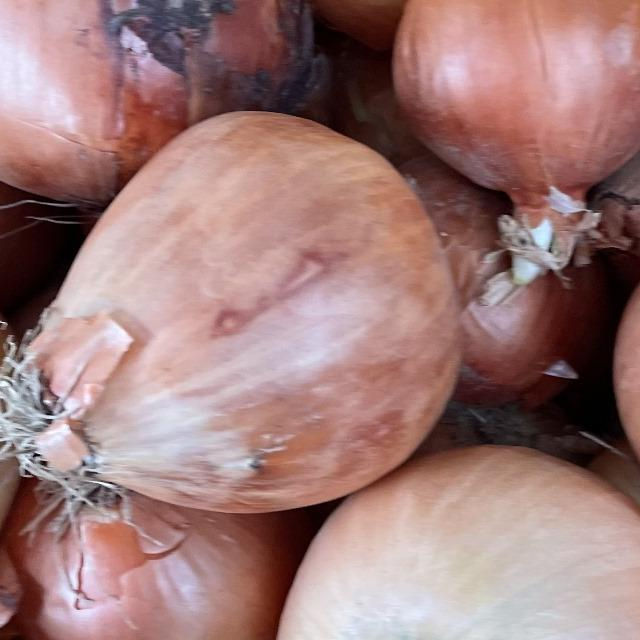onion: (0, 82, 485, 532), (257, 402, 640, 640), (372, 0, 640, 237)
